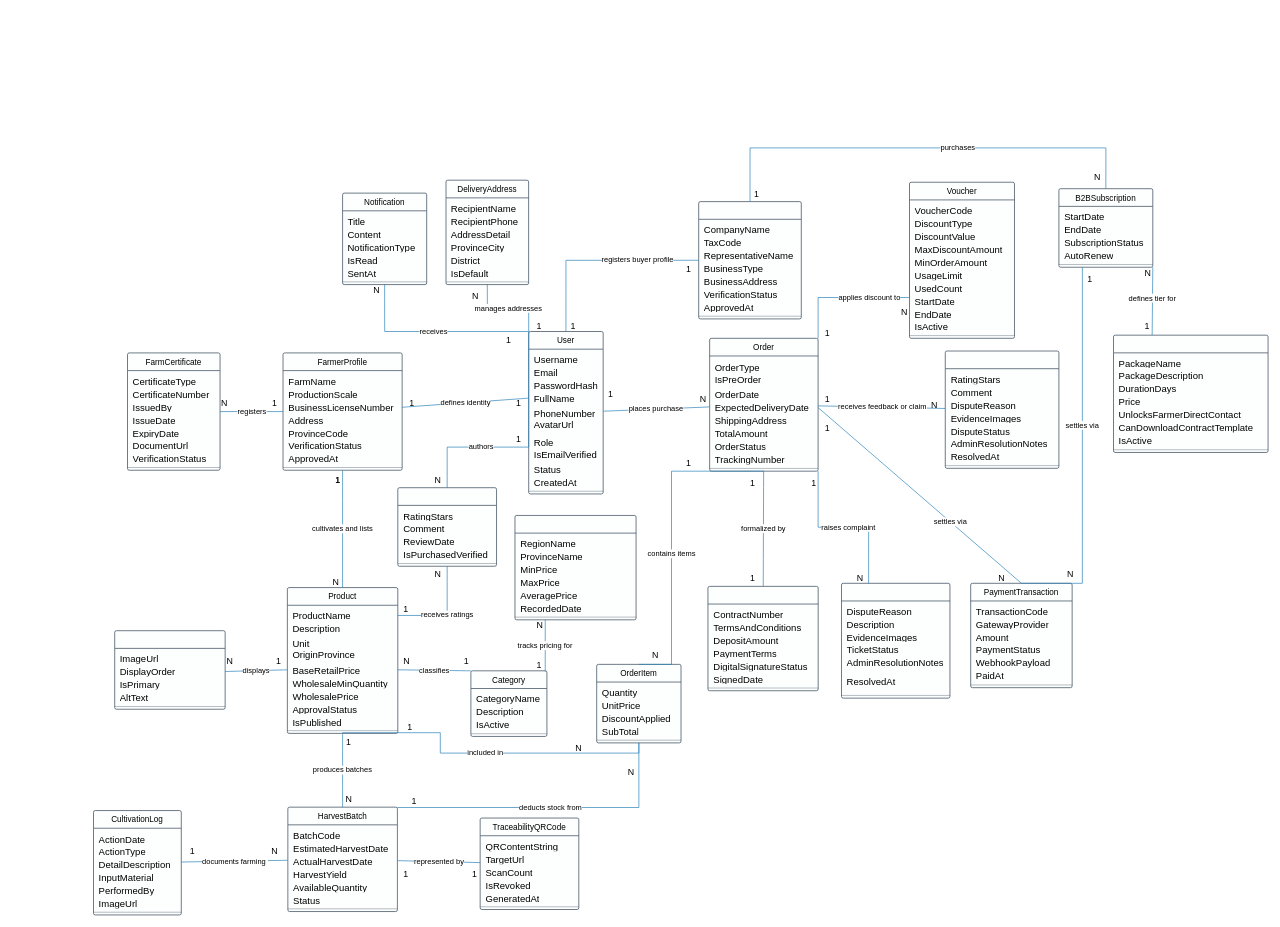
The diagram is 1280 pixels wide and 927 high, and some of its shapes have lost their labels. The shapes that lost their labels are listed below. From the top down, each one's box as (x1, y1, x2, y2) in pixels, then its label:
(698, 201, 801, 319): BuyerProfile
(945, 350, 1059, 468): ReviewDispute
(1113, 334, 1268, 452): B2BSubscriptionPackage
(397, 487, 497, 566): ProductReview
(514, 515, 636, 620): RegionalPriceBenchmark
(707, 586, 818, 691): B2BContract
(841, 583, 950, 698): DisputeTicket
(114, 630, 225, 709): ProductImage
